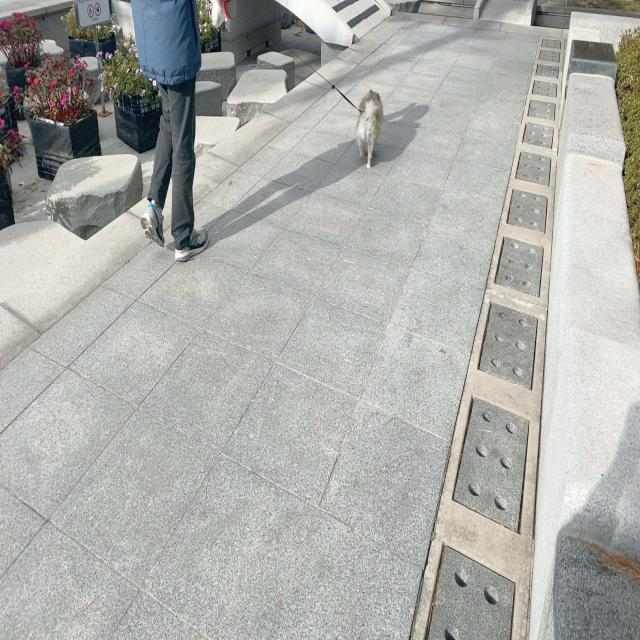Leashed_Dog: (164, 0, 383, 172)
